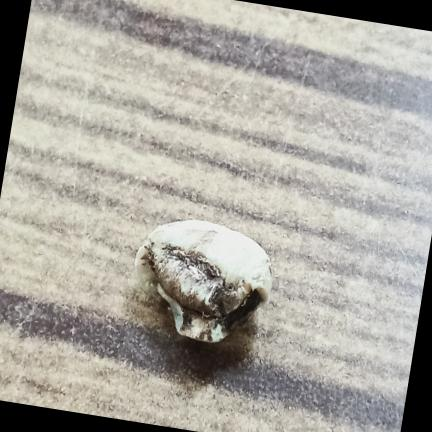cut: (135, 220, 272, 342)
